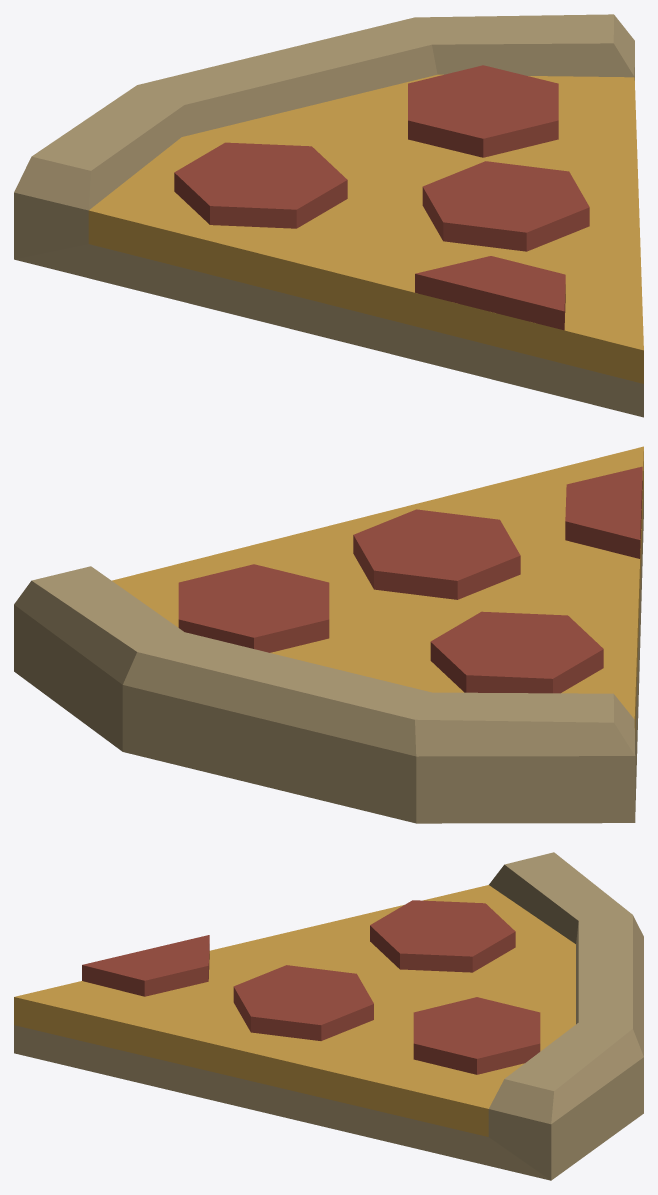
The model's file is SM_Prop_Sign_Pizza_01.fbx.
The picture shows the model from 3 angles, top to bottom: view 1: azimuth 30°, elevation 25°; view 2: azimuth 150°, elevation 25°; view 3: azimuth 270°, elevation 25°; orthographic projection. The views are drawn at different scales.
Visible parts, largest first — view 1: SM_Prop_Sign_Pizza_01; view 2: SM_Prop_Sign_Pizza_01; view 3: SM_Prop_Sign_Pizza_01.
Boxes of the visible parts, x1,y1,x2,y2 form: SM_Prop_Sign_Pizza_01: [14, 14, 643, 417]; SM_Prop_Sign_Pizza_01: [14, 446, 643, 823]; SM_Prop_Sign_Pizza_01: [14, 852, 643, 1180].
Bounding box in the file's own units: 63.36 × 9.45 × 66.18.
